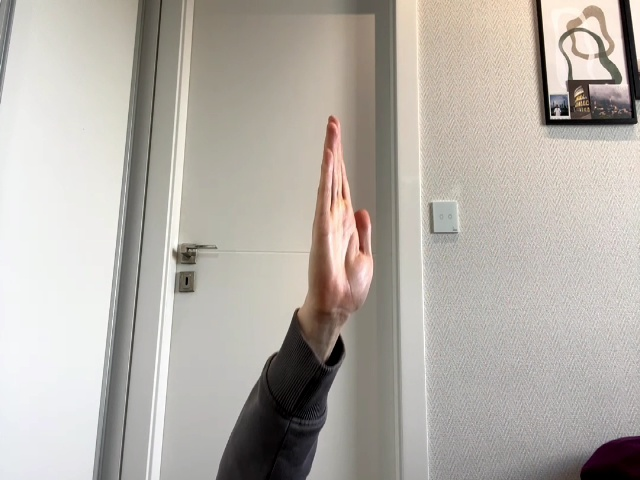SZ: (308, 115, 374, 318)
